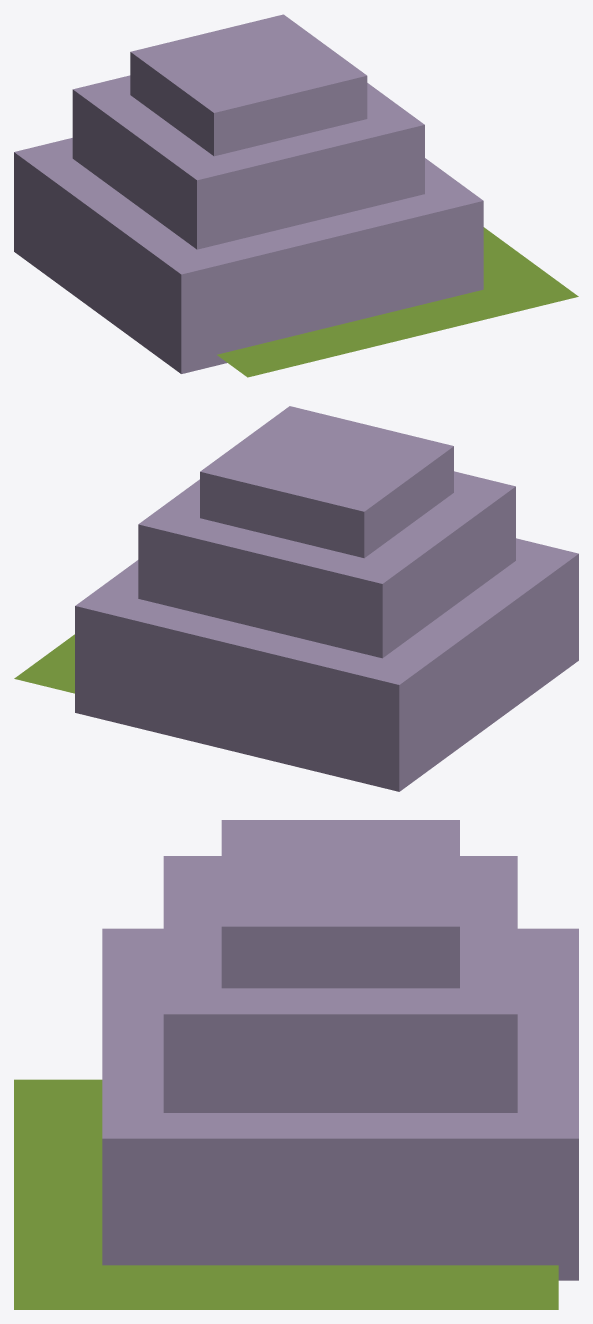
Rendered from rock.obj.
3 renders of one model, top to bottom at view 1: azimuth 30°, elevation 25°; view 2: azimuth 150°, elevation 25°; view 3: azimuth 270°, elevation 25°, orthographic. The views are drawn at different scales.
Bounding box in the file's own units: 0.885 × 0.49 × 0.83.
